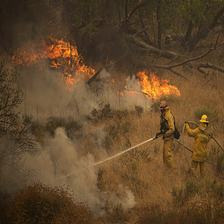fire: (15, 35, 184, 104)
